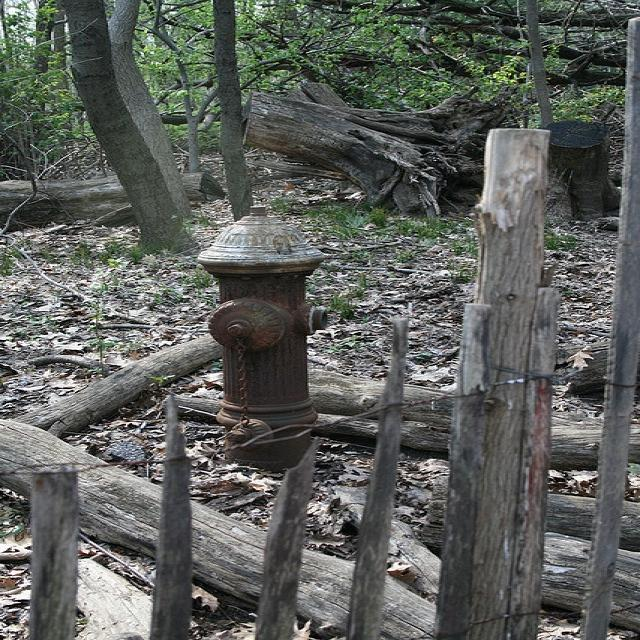fire_hydrant: (194, 204, 332, 475)
